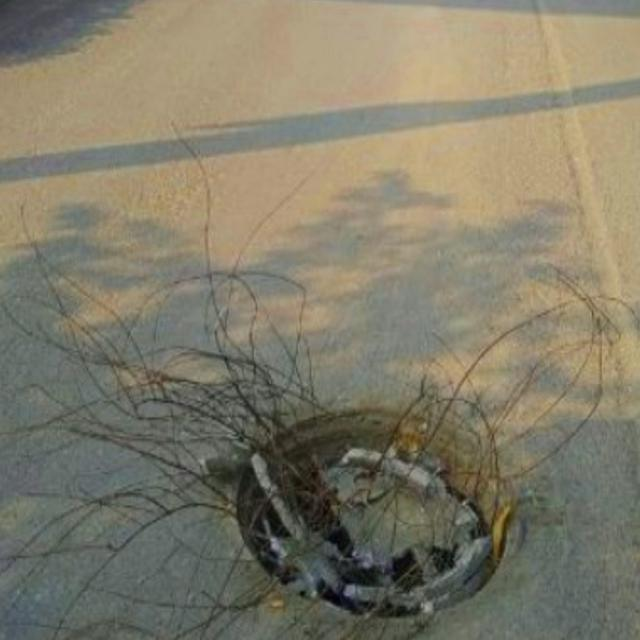broke: (226, 400, 525, 618)
